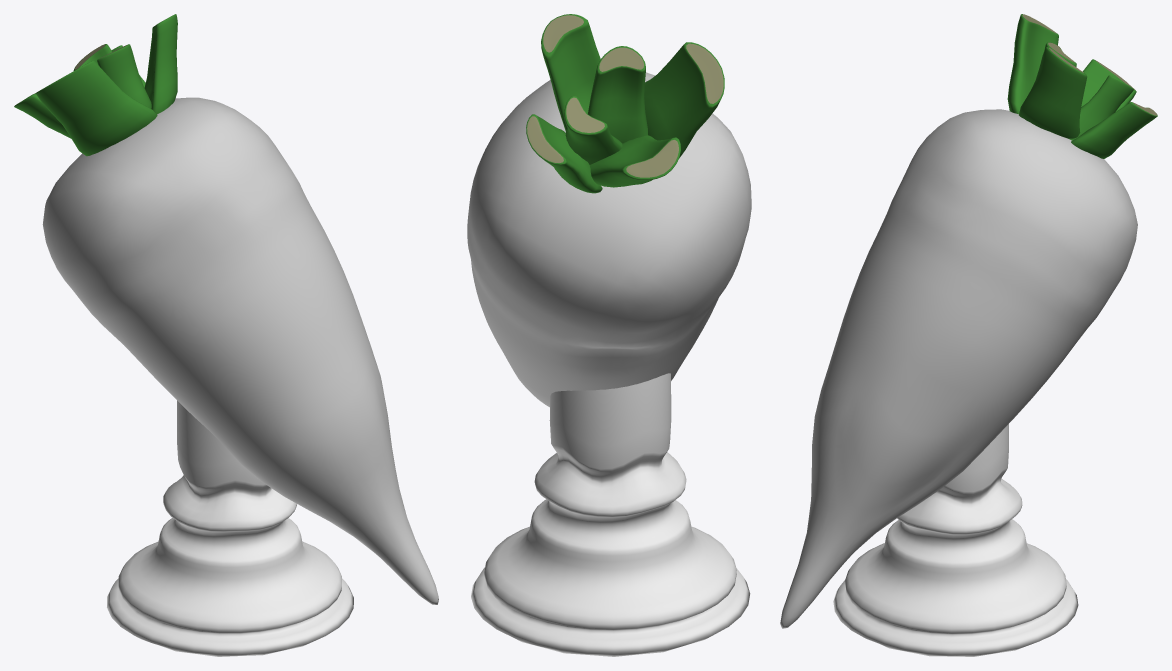
Rendered from DAIKON.fbx.
3 renders of one model, left to right at view 1: azimuth 30°, elevation 25°; view 2: azimuth 150°, elevation 25°; view 3: azimuth 270°, elevation 25°, orthographic. The views are drawn at different scales.
Visible parts, largest first — view 1: polySurface22; view 2: polySurface22; view 3: polySurface22.
Part boxes in pixels (bbox=[...]): polySurface22: bbox=[14, 14, 438, 656]; polySurface22: bbox=[467, 14, 751, 656]; polySurface22: bbox=[780, 14, 1157, 656].
Bounding box in the file's own units: 8.1 × 16.38 × 10.02.
